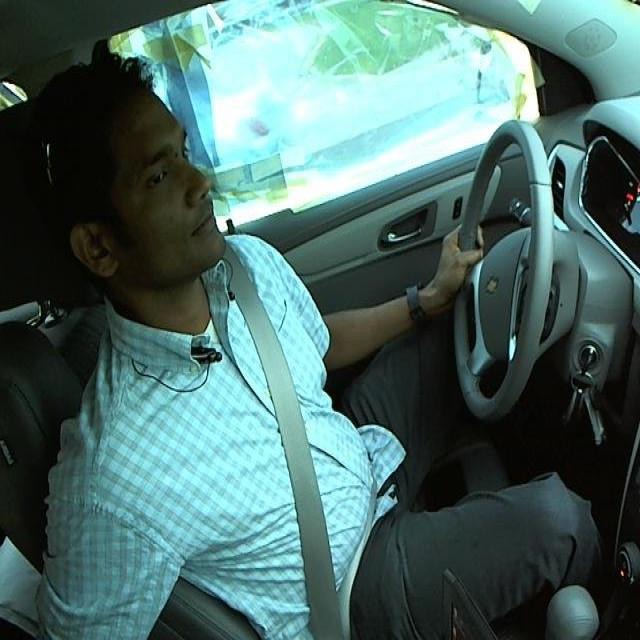seatbelt: (226, 284, 372, 620)
